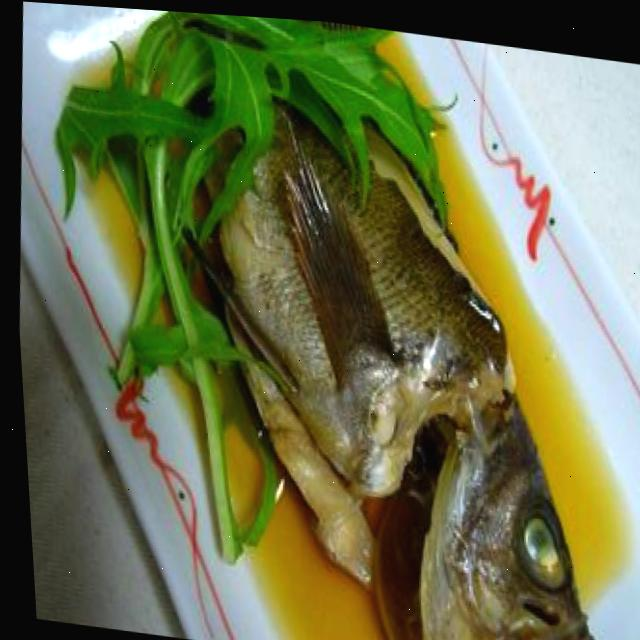熟制海鲜: (98, 5, 640, 640)
